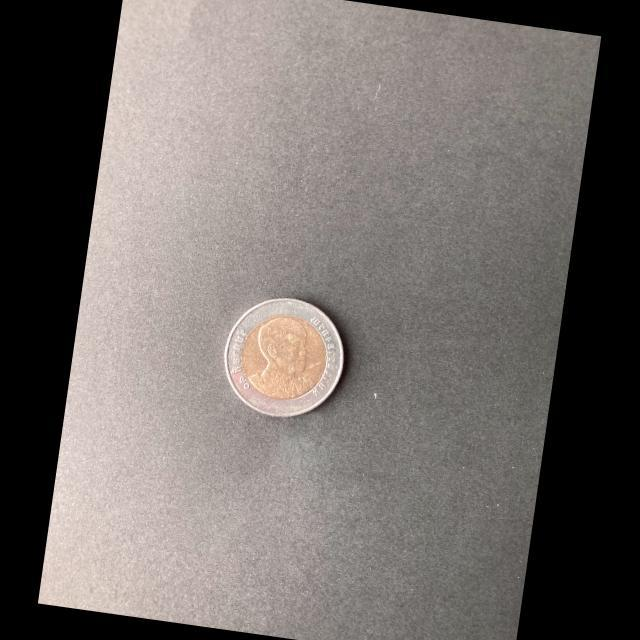10 Bath: (222, 293, 351, 423)
